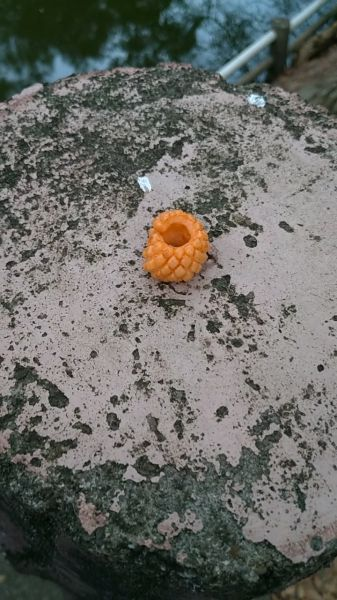eggs: (139, 205, 213, 285)
